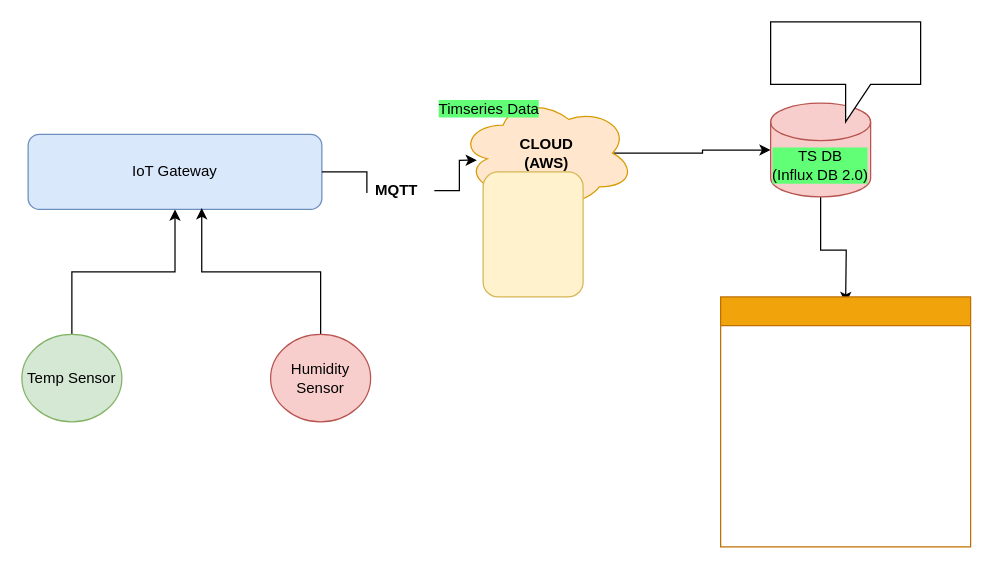
Image size: 993x569. Some labels were removed from this diagram. Each missing label, with the centre of its shape:
EC2 Instance: (532,234)
FLUX QUERIES: (845,71)
UI: (845,421)
